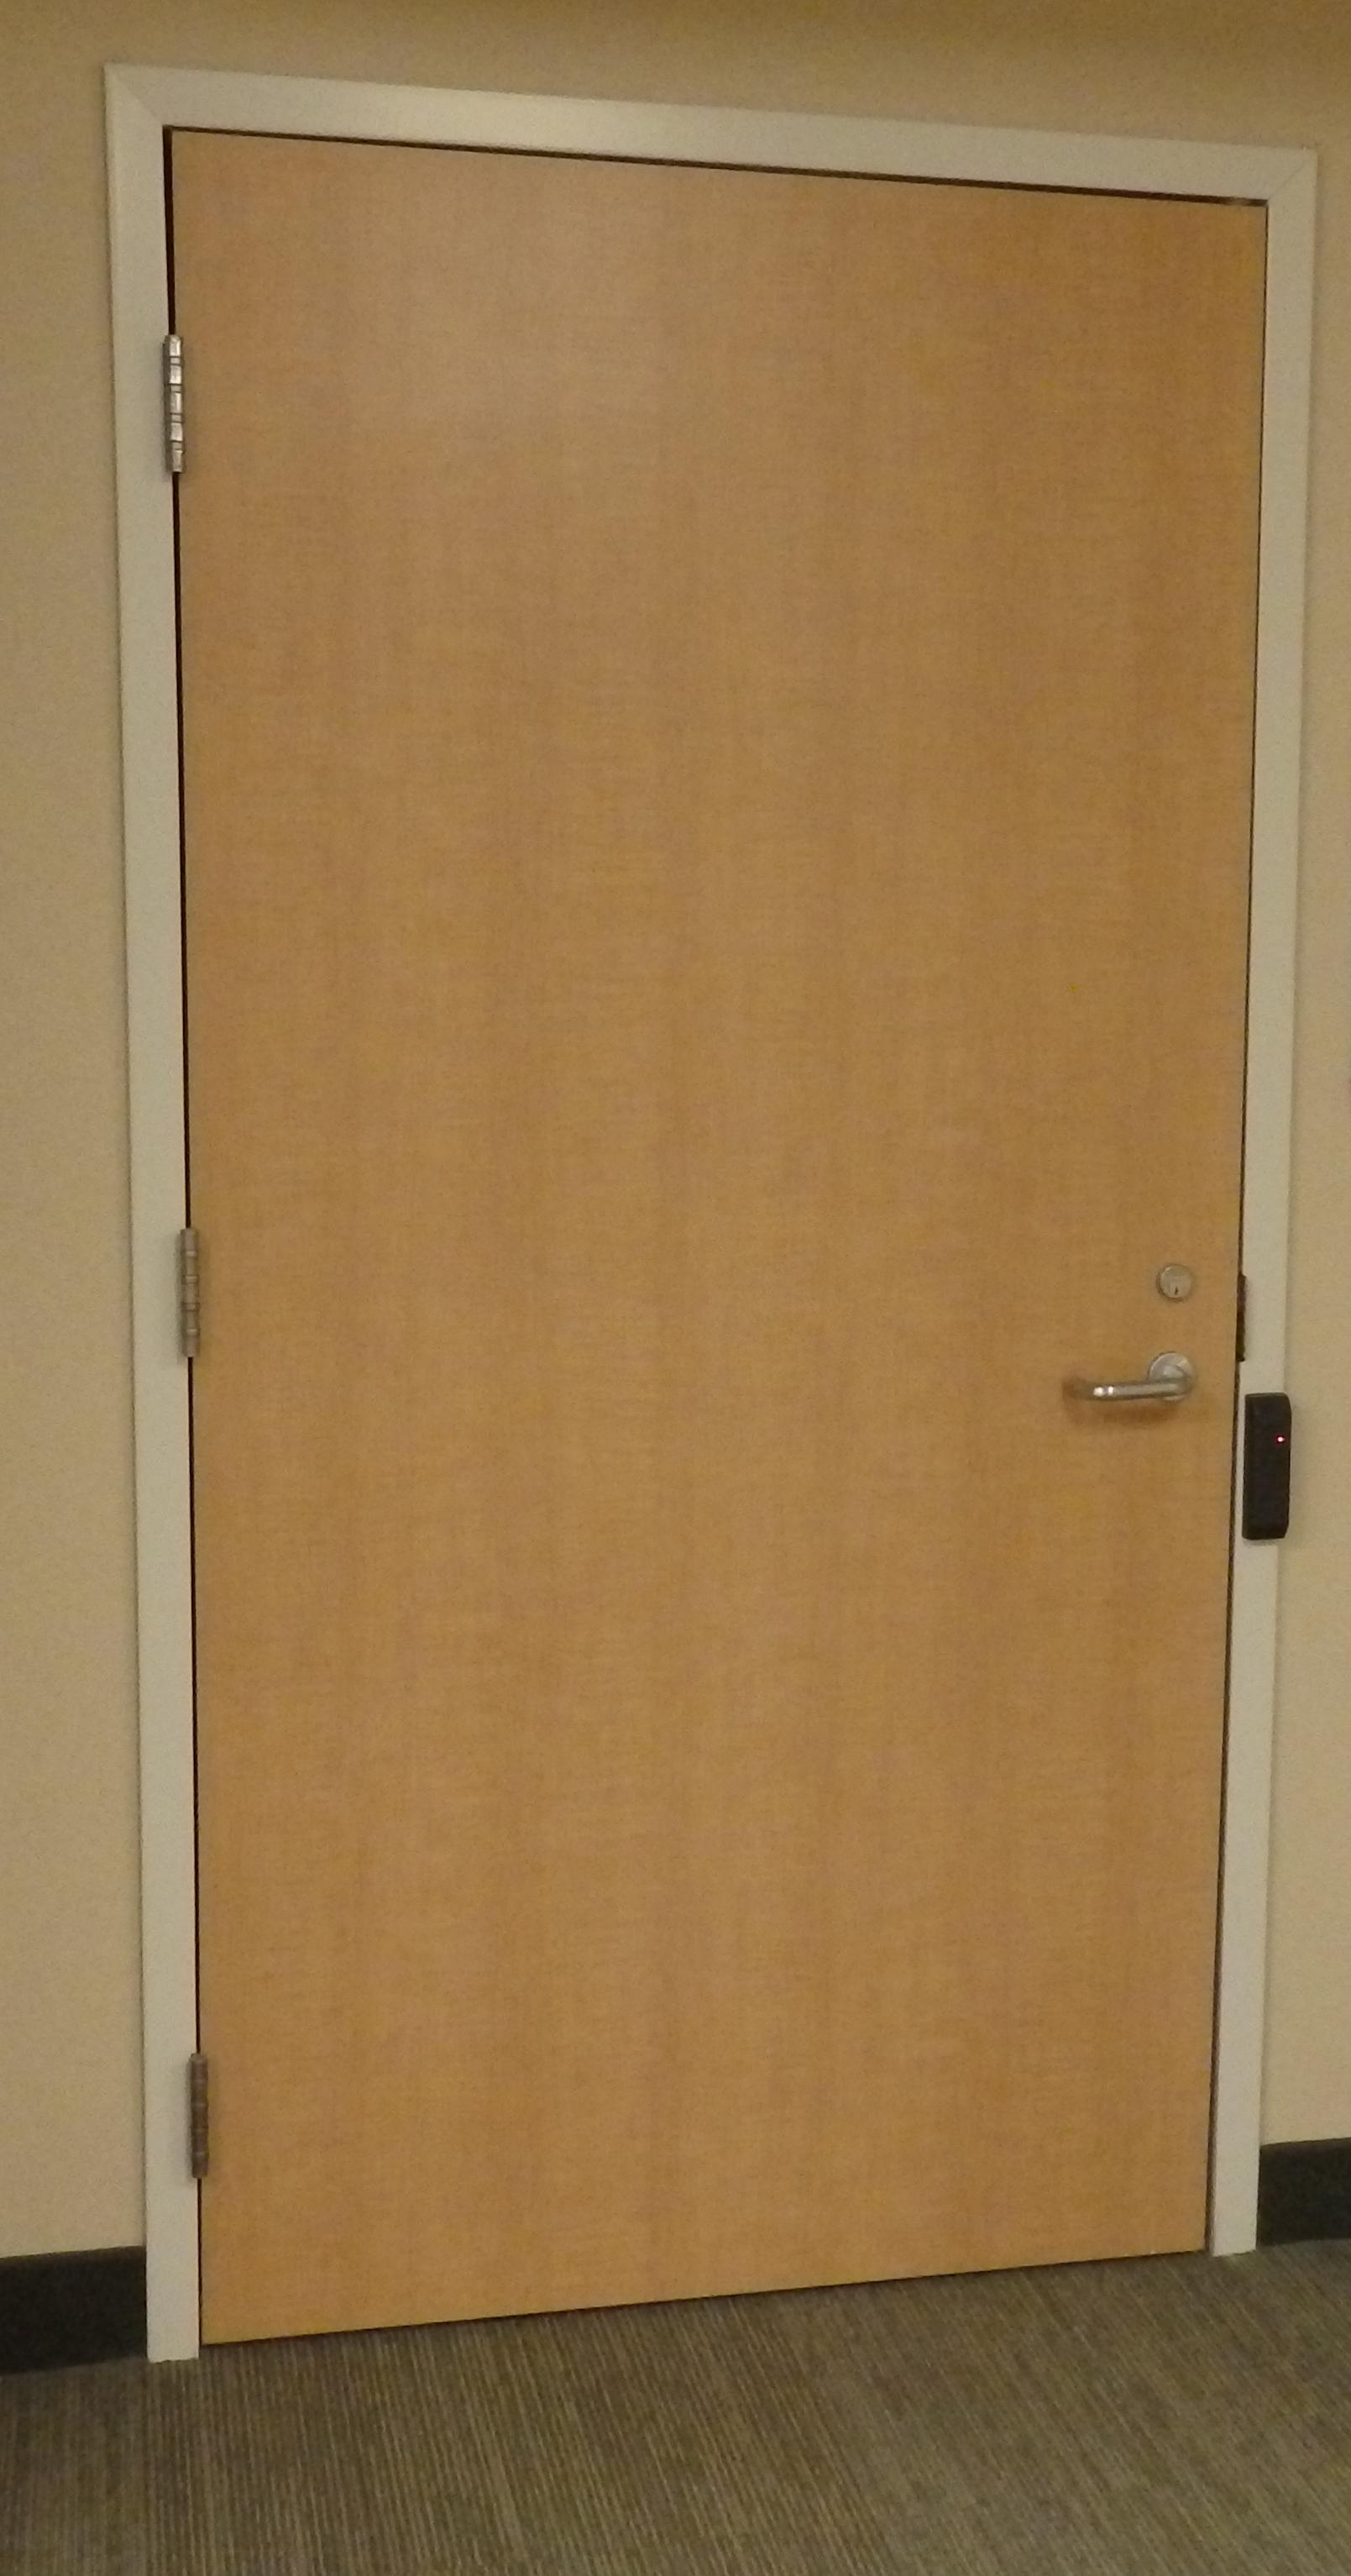door: (148, 107, 1286, 2322)
